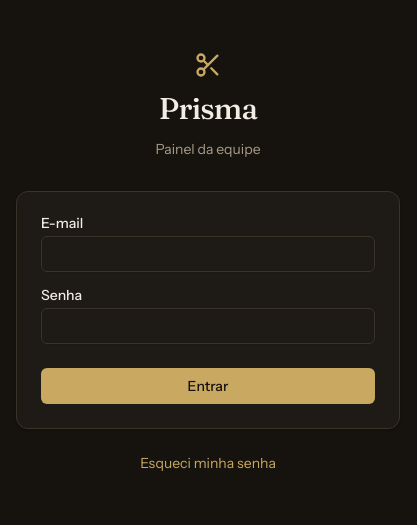
Test: LoginPage › falha de rede (fetch rejeita) mostra a mensagem de servidor inalcançável
Type "joao@barbearia.com" into the field labelled "E-mail". click: (208, 254)
box: [41,236,375,272]
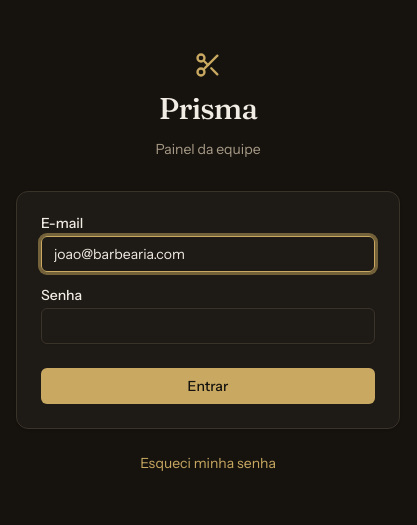
Type "segredo123" into the password field labelled "Senha". click: (208, 326)
box: [41,308,375,344]
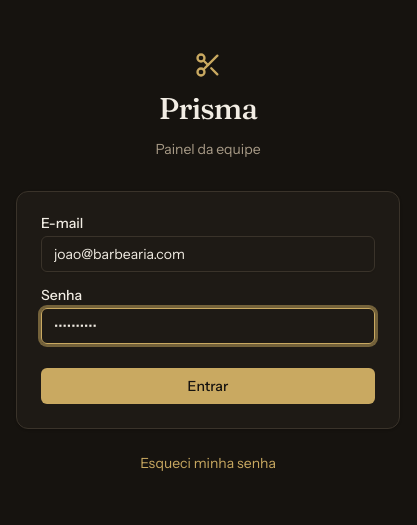
Click the button "Entrar". click: (208, 386)
box: [41,368,375,404]
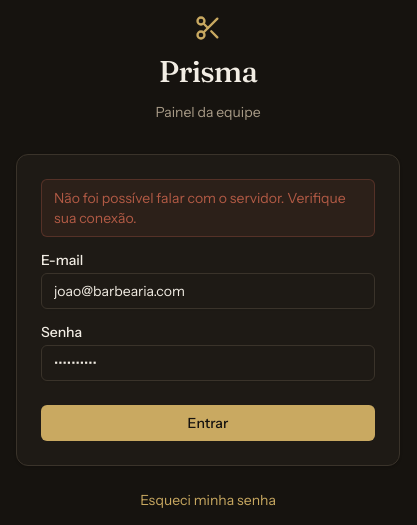
Check: the text "Não foi possível falar com o servidor. Verifique sua conexão." is shown, box [41,179,375,237]
